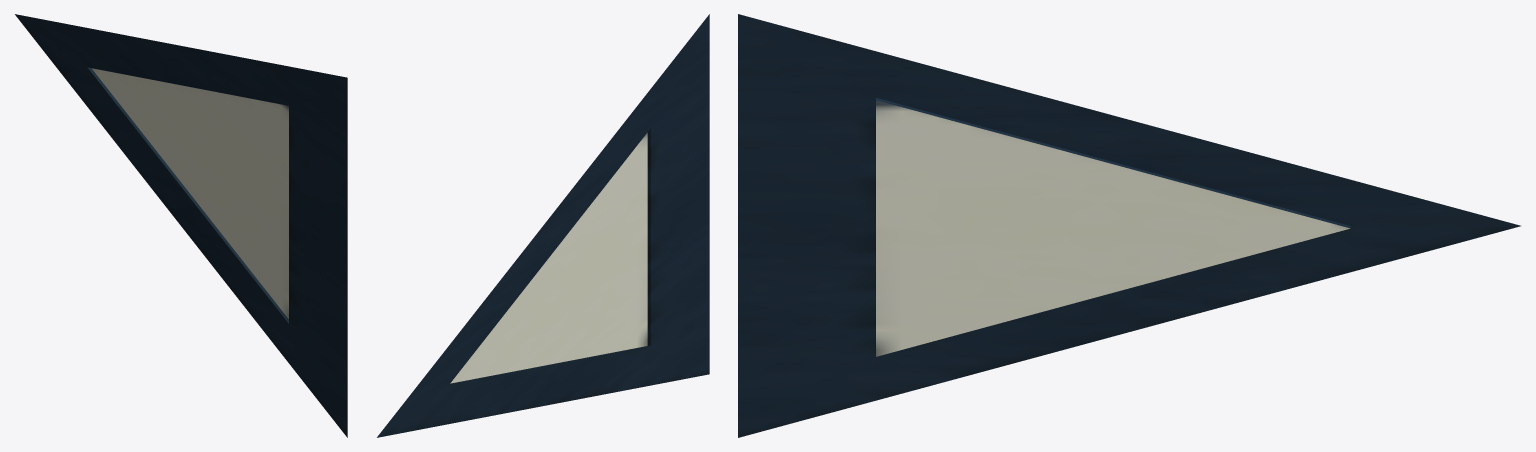
File: entity28124n.gltf
The picture shows the model from 3 angles, left to right: view 1: azimuth 30°, elevation 25°; view 2: azimuth 150°, elevation 25°; view 3: azimuth 270°, elevation 25°; orthographic projection. The views are drawn at different scales.
Visible parts, largest first — view 1: node_Signbook_ArrowLeft_Art; view 2: node_Signbook_ArrowLeft_Art; view 3: node_Signbook_ArrowLeft_Art.
Part boxes in pixels (x1,y1,x2,y2): node_Signbook_ArrowLeft_Art: (15,14,347,437); node_Signbook_ArrowLeft_Art: (377,14,709,437); node_Signbook_ArrowLeft_Art: (738,14,1520,437).
Size of the model in its own units: 0.00218 by 0.2263 by 0.3792.
Materials: 1 (1 with a texture image).
